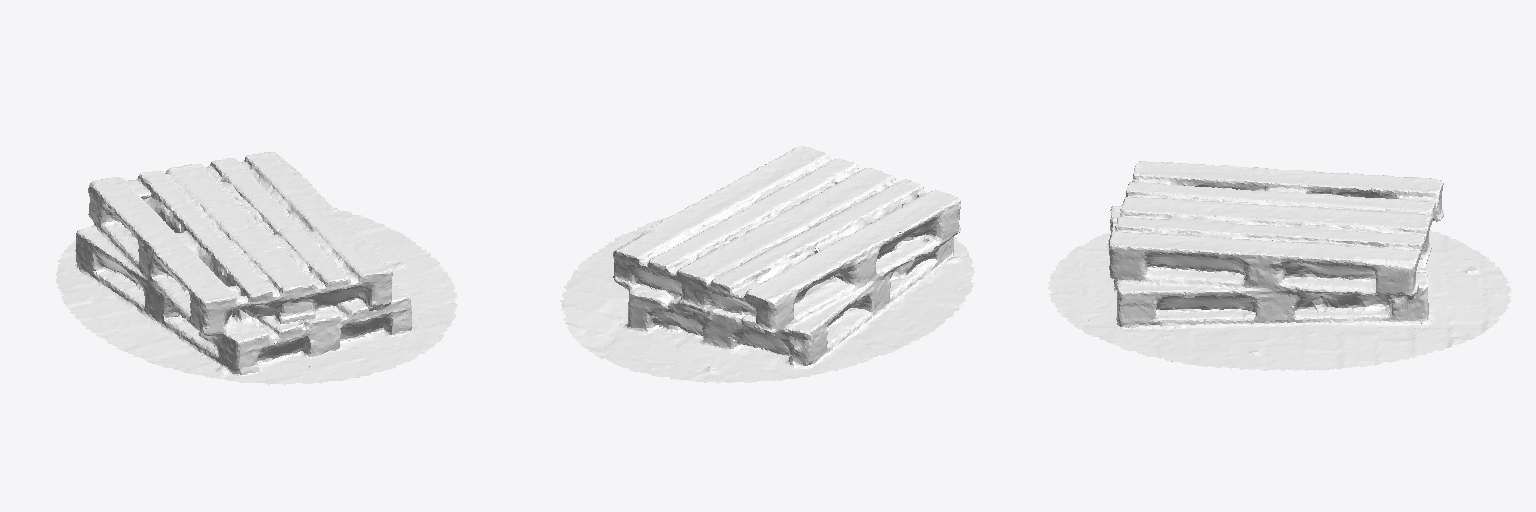
File: lava4.obj
3 renders of one model, left to right at view 1: azimuth 30°, elevation 25°; view 2: azimuth 150°, elevation 25°; view 3: azimuth 270°, elevation 25°, orthographic.
Visible parts, largest first — view 1: Group_Global; view 2: Group_Global; view 3: Group_Global.
Part boxes in pixels (x1,y1,x2,y2): Group_Global: (55, 152, 457, 384); Group_Global: (560, 146, 974, 383); Group_Global: (1048, 161, 1511, 370).
Bounding box in the file's own units: 1.72 × 0.3555 × 2.06.